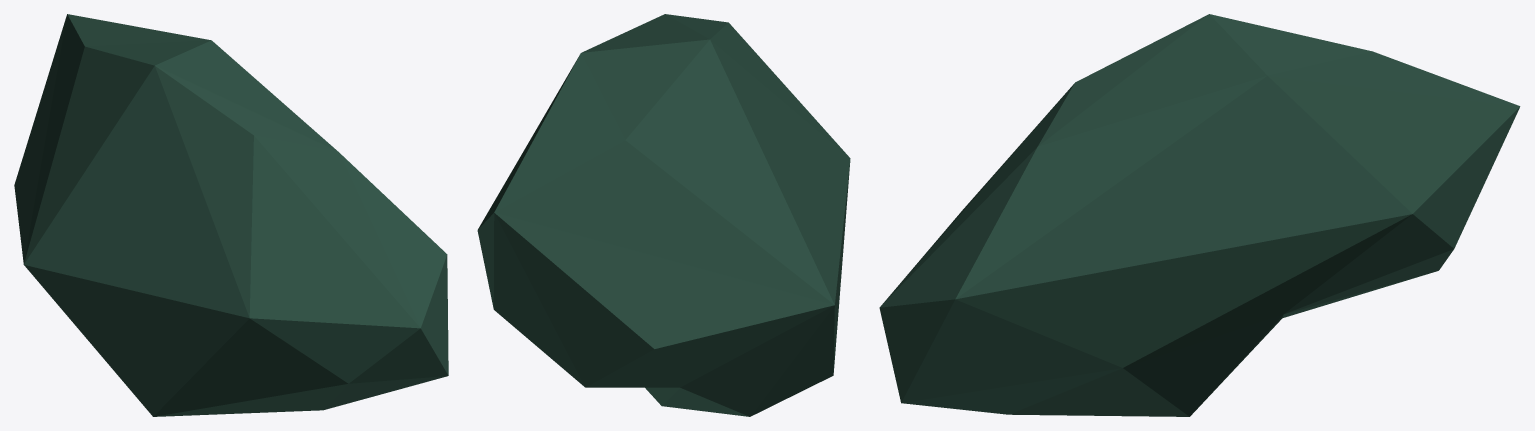
Rendered from SM_large_rock_32.fbx.
3 views of the same model, side by side, from view 1: azimuth 30°, elevation 25°; view 2: azimuth 150°, elevation 25°; view 3: azimuth 270°, elevation 25° (orthographic). The views are drawn at different scales.
Visible parts, largest first — view 1: large_rock_32; view 2: large_rock_32; view 3: large_rock_32.
Boxes of the visible parts, x1,y1,x2,y2 form: large_rock_32: [14, 14, 448, 416]; large_rock_32: [477, 14, 850, 416]; large_rock_32: [879, 14, 1520, 416].
Bounding box in the file's own units: 28.17 × 29.29 × 44.39.
